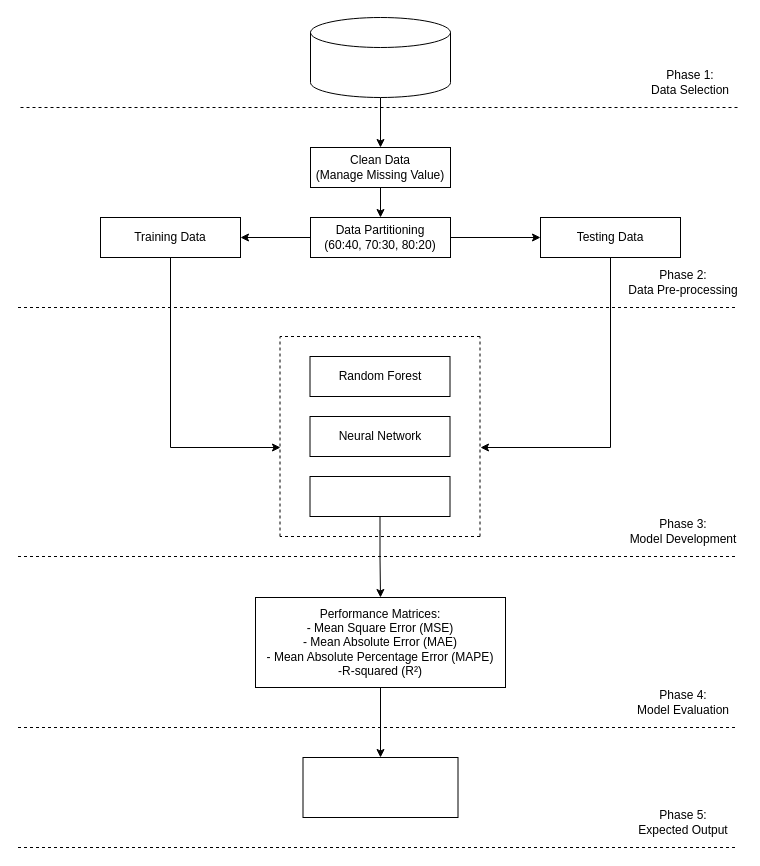
Some shapes in this 760 by 866 pixel diagram are drawn without their labels. The centre of each missing label's shape, as x and y in pixels:
"Linear Regression" goes at point (379, 496).
"Monthly Electricity Consumption Data" goes at point (380, 57).
"Monthly Electricity Usage Prediction Model" goes at point (380, 787).
